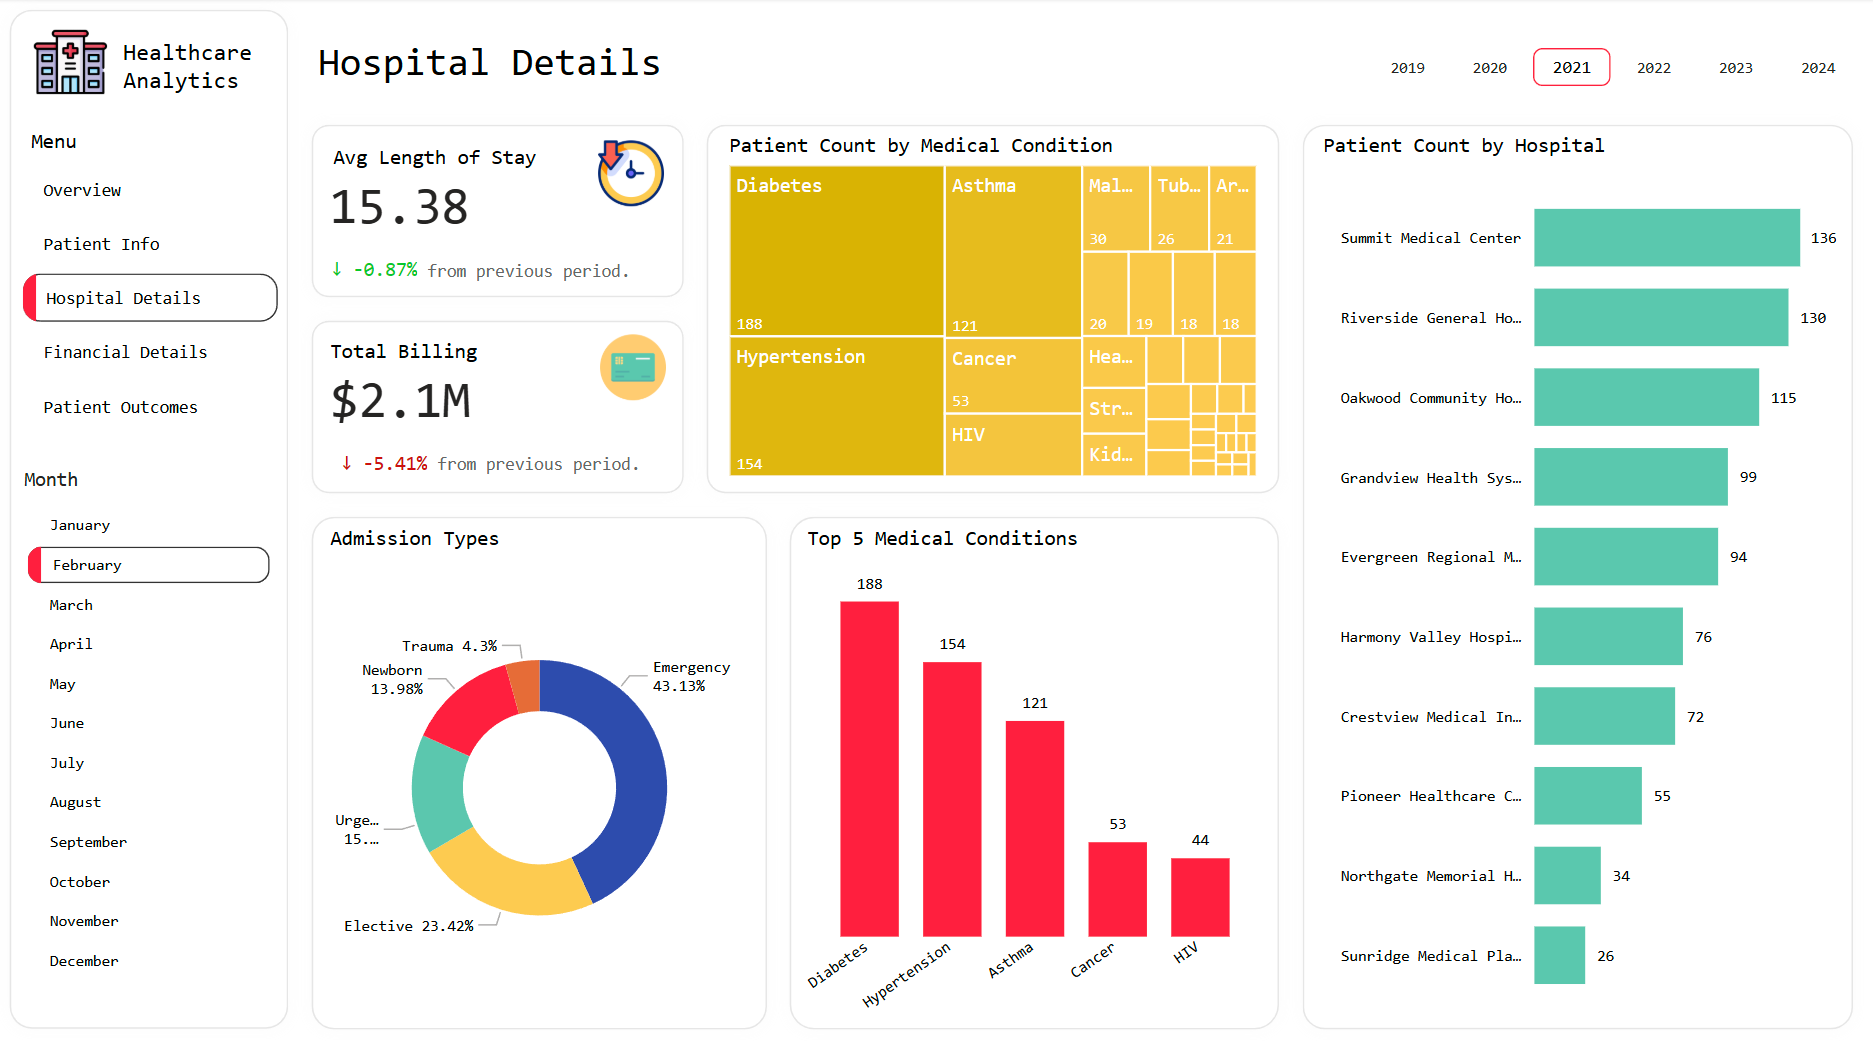

The dashboard page shown, as its layout file describes it:
{"tool":"powerbi","page":{"name":"Hospital Details","canvas":[1280,720],"ordinal":2},"visuals":[{"type":"shape","box":[205.7,345.8,326.6,365.8],"z":0},{"type":"shape","box":[475.5,78.4,406.7,267.4],"z":1000},{"type":"shape","box":[882.2,78.4,391.4,633.2],"z":2000},{"type":"shape","box":[532.3,345.8,349.8,365.8],"z":3000},{"type":"barChart","title":"Patient Count by Hospital","fields":{"Category":["healthcare_dataset_cleaned.Hospital"],"Y":["healthcare_dataset_cleaned.Name"]},"box":[899,92.1,360.2,608.4],"z":4000},{"type":"columnChart","title":"Top 5 Medical Conditions","fields":{"Category":["healthcare_dataset_cleaned.Medical Condition"],"Y":["healthcare_dataset_cleaned.Name"]},"box":[547.5,360.2,322.6,340.2],"z":5000},{"type":"treemap","title":"Patient Count by Medical Condition","fields":{"Group":["healthcare_dataset_cleaned.Medical Condition"],"Values":["healthcare_dataset_cleaned.Name"]},"box":[493.9,92.1,369.8,239.3],"z":6000},{"type":"textbox","box":[213.3,22.4,333.8,50.8],"z":7000},{"type":"shape","box":[0,0,206,711.3],"z":8000},{"type":"shape","box":[205.7,78.4,269.8,133.7],"z":9000},{"type":"textbox","box":[223.8,95.5,189.7,30],"z":10000},{"type":"image","box":[396.4,91.9,70.2,55],"z":11000},{"type":"cardVisual","fields":{"Data":["healthcare_dataset_cleaned.Length of Stay"]},"box":[214.1,101.4,178.7,69.2],"z":12000},{"type":"cardVisual","fields":{"Data":["healthcare_dataset_cleaned.LOS % Change with Arrows"]},"box":[219.1,170.2,67,30.2],"z":13000},{"type":"textbox","box":[288.2,173.4,169.7,31.2],"z":14000},{"type":"shape","box":[205.7,212.1,269.8,133.7],"z":15000},{"type":"cardVisual","fields":{"Data":["healthcare_dataset_cleaned.Billing Amount"]},"box":[215,234.1,192.1,69.2],"z":16000},{"type":"textbox","box":[221.5,228.1,153.5,30.1],"z":17000},{"type":"image","box":[397.5,224.8,70.2,55],"z":18000},{"type":"textbox","box":[294.5,305.1,163.9,30.2],"z":19000},{"type":"cardVisual","fields":{"Data":["healthcare_dataset_cleaned.Billing % Change with Arrows"]},"box":[226,302.1,67,30],"z":20000},{"type":"donutChart","title":"Admission Types","fields":{"Y":["CountNonNull(healthcare_dataset_cleaned.Admission Type)1"],"Category":["healthcare_dataset_cleaned.Admission Type"]},"box":[221.7,360.2,295.4,340.2],"z":21000},{"type":"advancedSlicerVisual","fields":{"Values":["DateTable.Year"]},"box":[931.2,34.1,342.4,26.4],"z":22000},{"type":"pageNavigator","box":[13.2,113.7,182.9,181.4],"z":23000},{"type":"textbox","box":[18,84.9,86.1,32.2],"z":24000},{"type":"advancedSlicerVisual","fields":{"Values":["DateTable.Month Name"]},"box":[16.2,347.4,173.4,324.4],"z":25000},{"type":"textbox","box":[13.1,316.2,188.4,32.4],"z":26000},{"type":"image","box":[18.1,13.6,62.7,59.7],"z":27000},{"type":"textbox","box":[80.8,22.7,114.8,50.6],"z":28000}]}

Visuals, with their boxes in screenshot pixels (x1, y1, x2, y2), scaled from the page's 1280x720 canvas onto the 1873x1051 screenshot:
shape: 301/505/779/1039
shape: 696/114/1291/505
shape: 1291/114/1864/1039
shape: 779/505/1291/1039
"Patient Count by Hospital" barChart: 1315/134/1843/1023
"Top 5 Medical Conditions" columnChart: 801/526/1273/1022
"Patient Count by Medical Condition" treemap: 723/134/1264/484
textbox: 312/33/801/107
shape: 0/0/301/1038
shape: 301/114/696/310
textbox: 327/139/605/183
image: 580/134/683/214
cardVisual - healthcare_dataset_cleaned.Length of Stay: 313/148/575/249
cardVisual - healthcare_dataset_cleaned.LOS % Change with Arrows: 321/248/419/293
textbox: 422/253/670/299
shape: 301/310/696/505
cardVisual - healthcare_dataset_cleaned.Billing Amount: 315/342/596/443
textbox: 324/333/549/377
image: 582/328/684/408
textbox: 431/445/671/489
cardVisual - healthcare_dataset_cleaned.Billing % Change with Arrows: 331/441/429/485
"Admission Types" donutChart: 324/526/757/1022
advancedSlicerVisual - DateTable.Year: 1363/50/1864/88
pageNavigator: 19/166/287/431
textbox: 26/124/152/171
advancedSlicerVisual - DateTable.Month Name: 24/507/277/981
textbox: 19/462/295/509
image: 26/20/118/107
textbox: 118/33/286/107
